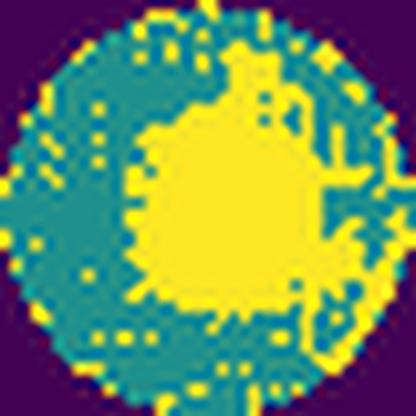Center: (122, 42, 376, 314)
